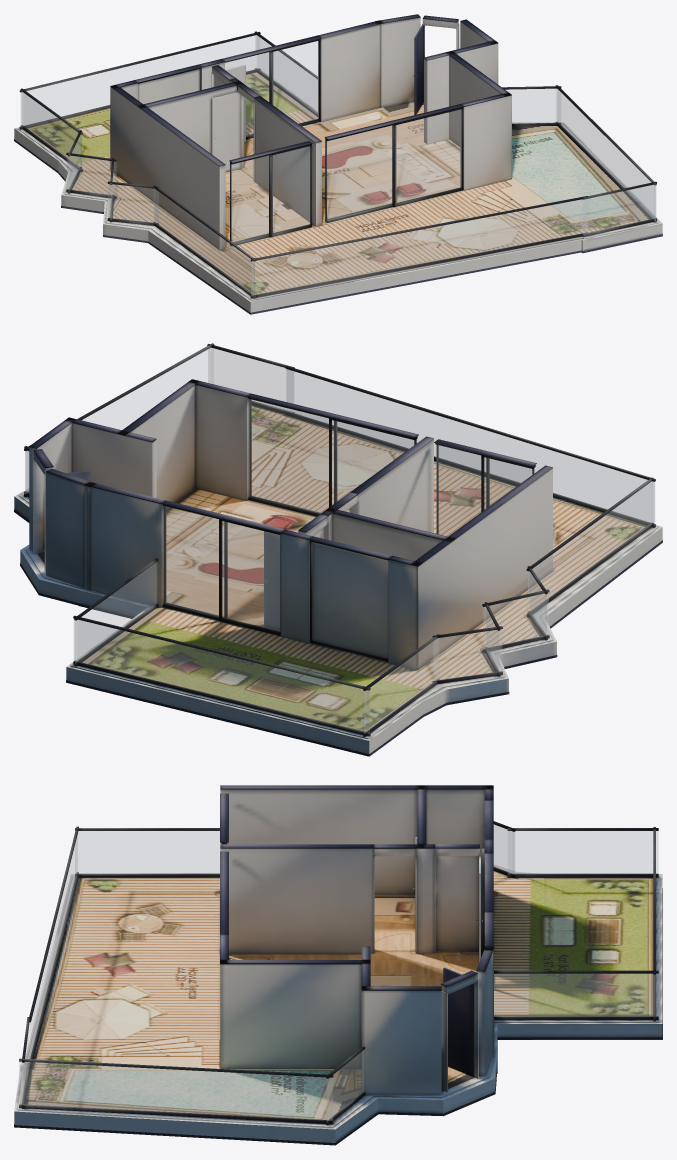
3 views of the same model, one above another, from view 1: azimuth 30°, elevation 25°; view 2: azimuth 150°, elevation 25°; view 3: azimuth 270°, elevation 25° (orthographic). The views are drawn at different scales.
Visible parts, largest first — view 1: plan, railg6_m, glass2_m, glass3_m, railg11_m, glass0_m, railg5_m, railg1_m, railg2_m, railg4_m, railg3_m, railg7_m (+2 smaller); view 2: plan, railg6_m, railg11_m, glass2_m, glass0_m, glass1_m, glass3_m, railg5_m, railg1_m, railg3_m, railg4_m, railg2_m (+3 smaller); view 3: plan, railg1_m, railg3_m, railg4_m, railg5_m, railg6_m, railg0_m, railg10_m.
Part boxes in pixels (x1=…): plan: x1=14, y1=14, x2=662, y2=314; railg6_m: x1=251, y1=199, x2=587, y2=295; glass2_m: x1=326, y1=109, x2=461, y2=220; glass3_m: x1=231, y1=146, x2=309, y2=242; railg11_m: x1=20, y1=35, x2=259, y2=126; glass0_m: x1=225, y1=41, x2=318, y2=136; railg5_m: x1=154, y1=189, x2=254, y2=295; railg1_m: x1=557, y1=89, x2=655, y2=219; railg2_m: x1=583, y1=185, x2=656, y2=233; railg4_m: x1=22, y1=92, x2=81, y2=168; railg3_m: x1=256, y1=35, x2=317, y2=112; railg7_m: x1=108, y1=184, x2=158, y2=223; plan: x1=14, y1=343, x2=662, y2=756; railg6_m: x1=286, y1=369, x2=654, y2=524; railg11_m: x1=74, y1=620, x2=369, y2=732; glass2_m: x1=249, y1=399, x2=413, y2=513; glass0_m: x1=164, y1=506, x2=279, y2=631; glass1_m: x1=312, y1=542, x2=387, y2=657; glass3_m: x1=436, y1=445, x2=534, y2=536; railg5_m: x1=528, y1=482, x2=652, y2=613; railg1_m: x1=25, y1=348, x2=212, y2=493; railg3_m: x1=75, y1=562, x2=156, y2=663; railg4_m: x1=364, y1=638, x2=438, y2=733; railg2_m: x1=208, y1=348, x2=293, y2=409; plan: x1=14, y1=785, x2=662, y2=1145; railg1_m: x1=19, y1=1062, x2=332, y2=1120; railg3_m: x1=494, y1=974, x2=658, y2=1016; railg4_m: x1=508, y1=831, x2=658, y2=873; railg5_m: x1=75, y1=831, x2=219, y2=873; railg6_m: x1=29, y1=835, x2=77, y2=1058; railg0_m: x1=327, y1=1050, x2=363, y2=1121; railg10_m: x1=494, y1=825, x2=514, y2=874.
Bounding box in the file's own units: 12.69 × 2.62 × 12.64.
2 materials, 1 textured.
